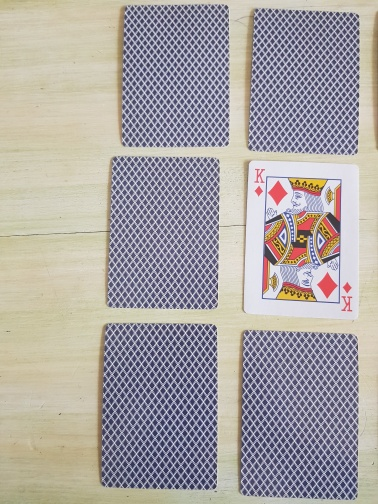king: (243, 160, 361, 322)
